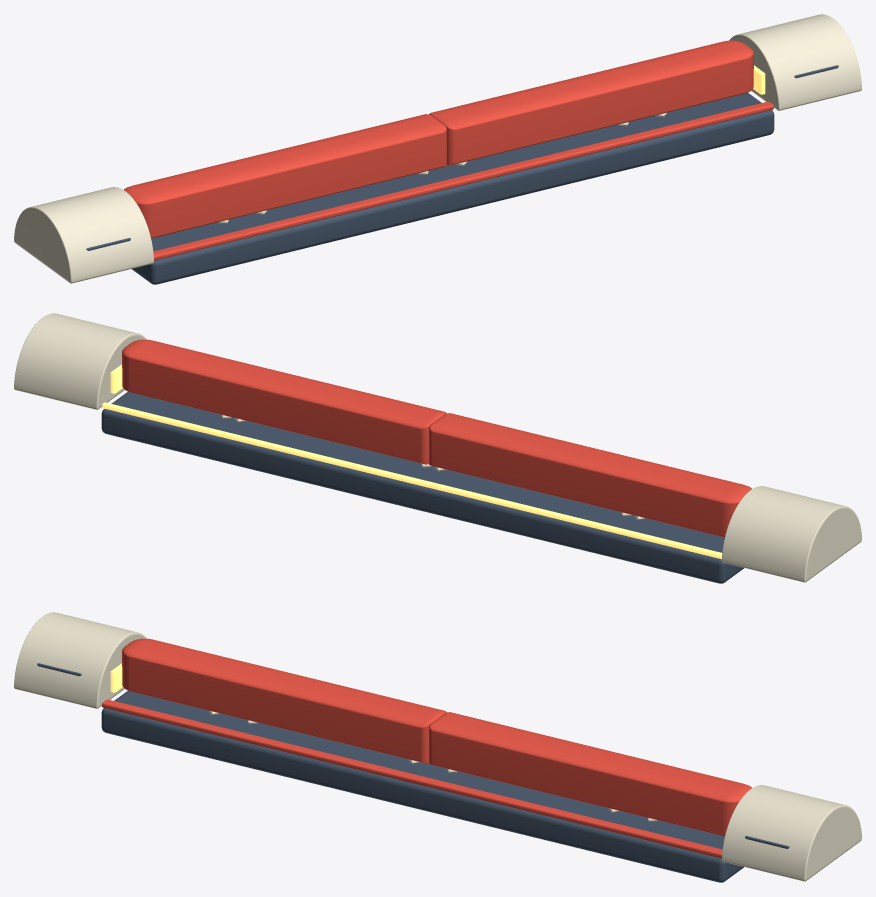
The model's file is AFJ_Rounded_Gate_3Cells.fbx.
The picture shows the model from 3 angles, top to bottom: view 1: azimuth 30°, elevation 25°; view 2: azimuth 150°, elevation 25°; view 3: azimuth 330°, elevation 25°; orthographic projection.
Parts seen in each view (by area): view 1: Threshold.001, Door_Right_Mesh.001, Door_Left_Mesh.001, Left_TopCap.001, Right_TopCap.001, Threshold_ColorStrip.001; view 2: Threshold.001, Door_Right_Mesh.001, Door_Left_Mesh.001, Left_TopCap.001, Right_TopCap.001, Exit_Edge.001; view 3: Threshold.001, Door_Left_Mesh.001, Door_Right_Mesh.001, Right_TopCap.001, Left_TopCap.001, Threshold_ColorStrip.001.
Boxes of the visible parts, x1=… form: Threshold.001: x1=132, y1=92, x2=774, y2=284; Door_Right_Mesh.001: x1=429, y1=40, x2=753, y2=165; Door_Left_Mesh.001: x1=124, y1=114, x2=446, y2=238; Left_TopCap.001: x1=14, y1=187, x2=153, y2=283; Right_TopCap.001: x1=729, y1=14, x2=861, y2=110; Threshold_ColorStrip.001: x1=153, y1=101, x2=773, y2=260; Threshold.001: x1=101, y1=391, x2=743, y2=583; Door_Right_Mesh.001: x1=122, y1=339, x2=446, y2=464; Door_Left_Mesh.001: x1=429, y1=413, x2=751, y2=537; Left_TopCap.001: x1=722, y1=486, x2=861, y2=582; Right_TopCap.001: x1=14, y1=313, x2=146, y2=409; Exit_Edge.001: x1=102, y1=402, x2=722, y2=559; Threshold.001: x1=101, y1=690, x2=743, y2=882; Door_Left_Mesh.001: x1=122, y1=638, x2=446, y2=763; Door_Right_Mesh.001: x1=429, y1=712, x2=751, y2=836; Right_TopCap.001: x1=722, y1=785, x2=861, y2=881; Left_TopCap.001: x1=14, y1=612, x2=146, y2=708; Threshold_ColorStrip.001: x1=102, y1=699, x2=722, y2=858.
Bounding box in the file's own units: 396 × 37 × 49.84.
